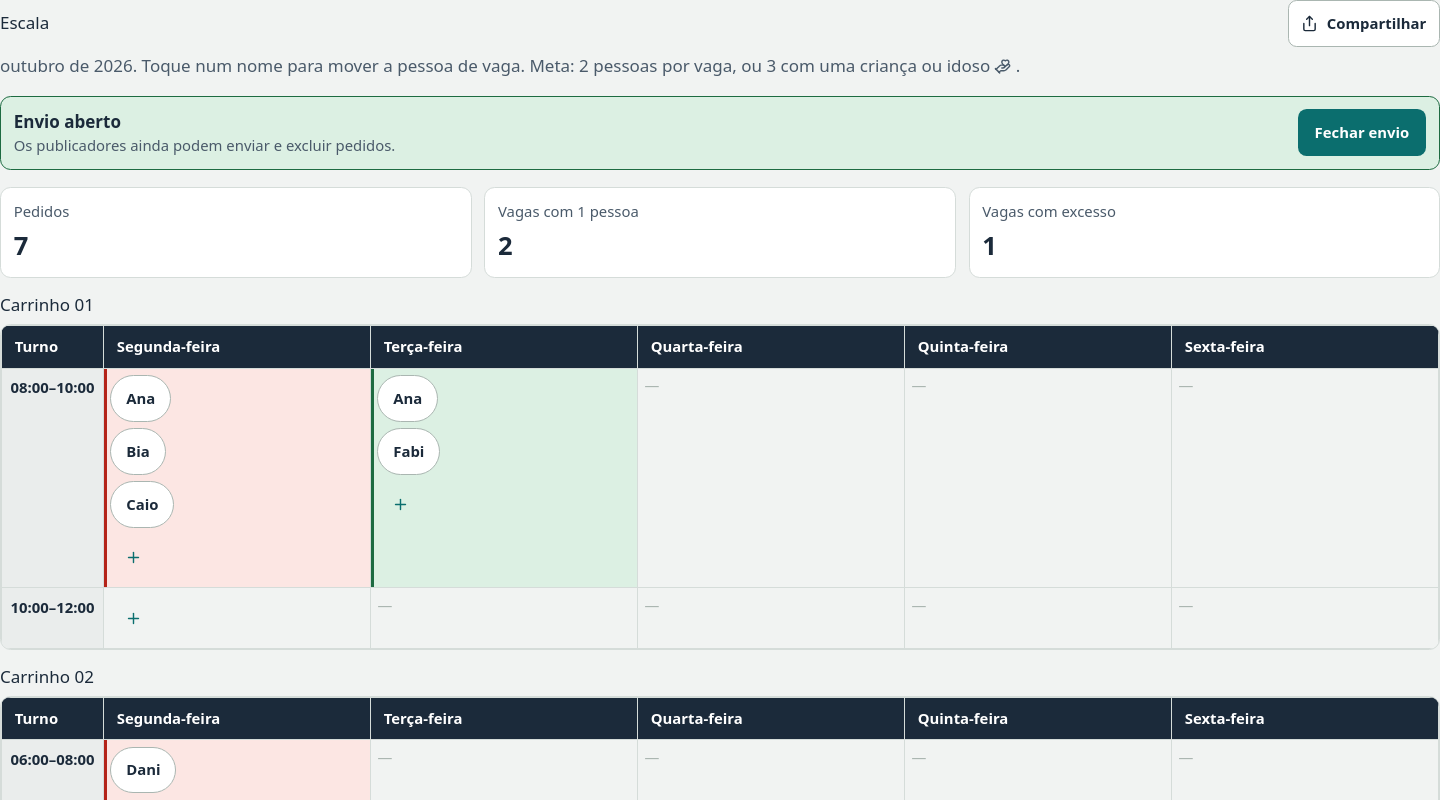
it: RedirecionaParaEscala › envio dos publicadores › erro da API aparece no modal e o estado não muda
This screenshot has width=1440, height=800.
expect the heading "Escala" is shown: met, box x1=0 y1=13 x2=49 y2=34
Click the button "Fechar envio": [1362, 133] box x1=1298 y1=109 x2=1426 y2=156
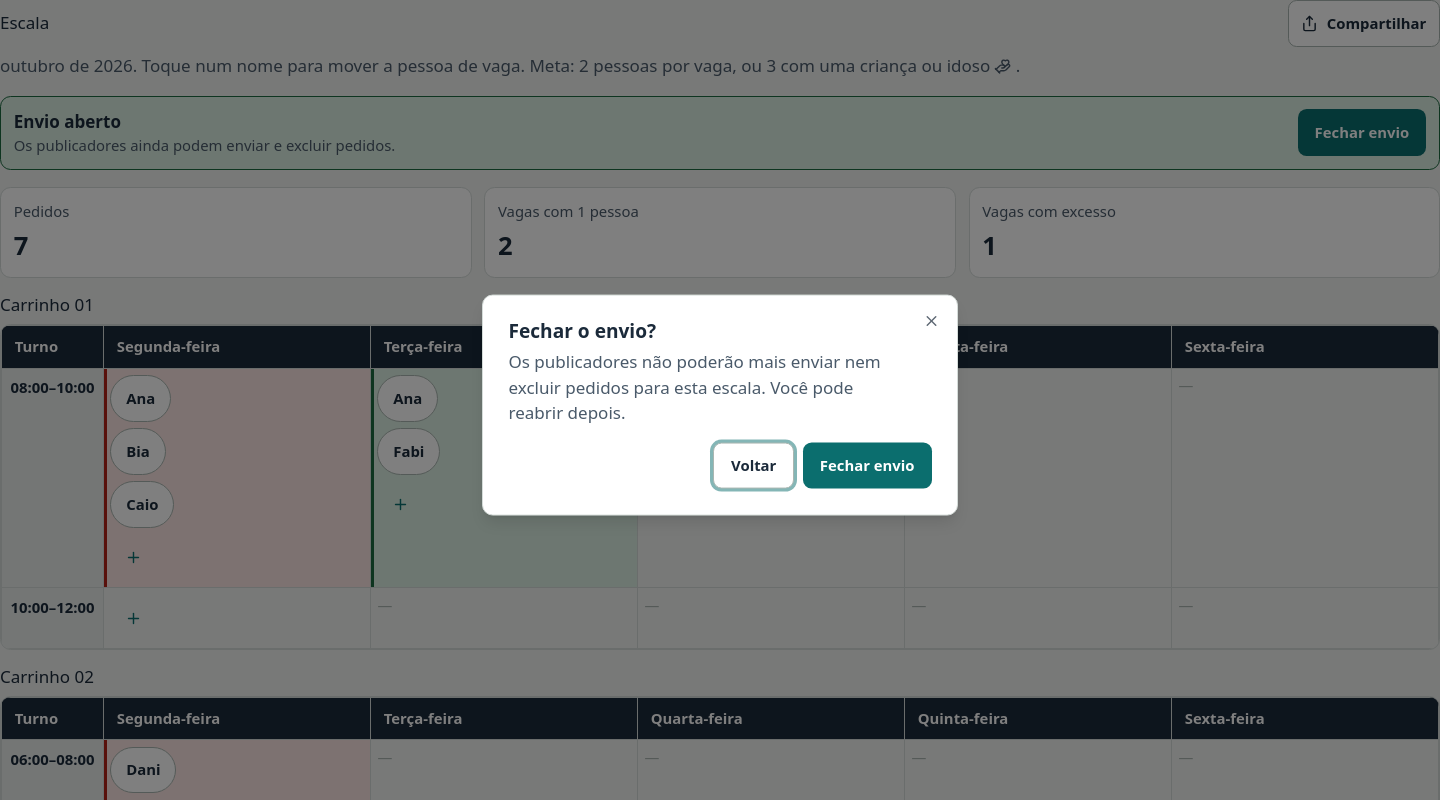
Click the button "Fechar envio": [867, 466] box x1=803 y1=442 x2=932 y2=489
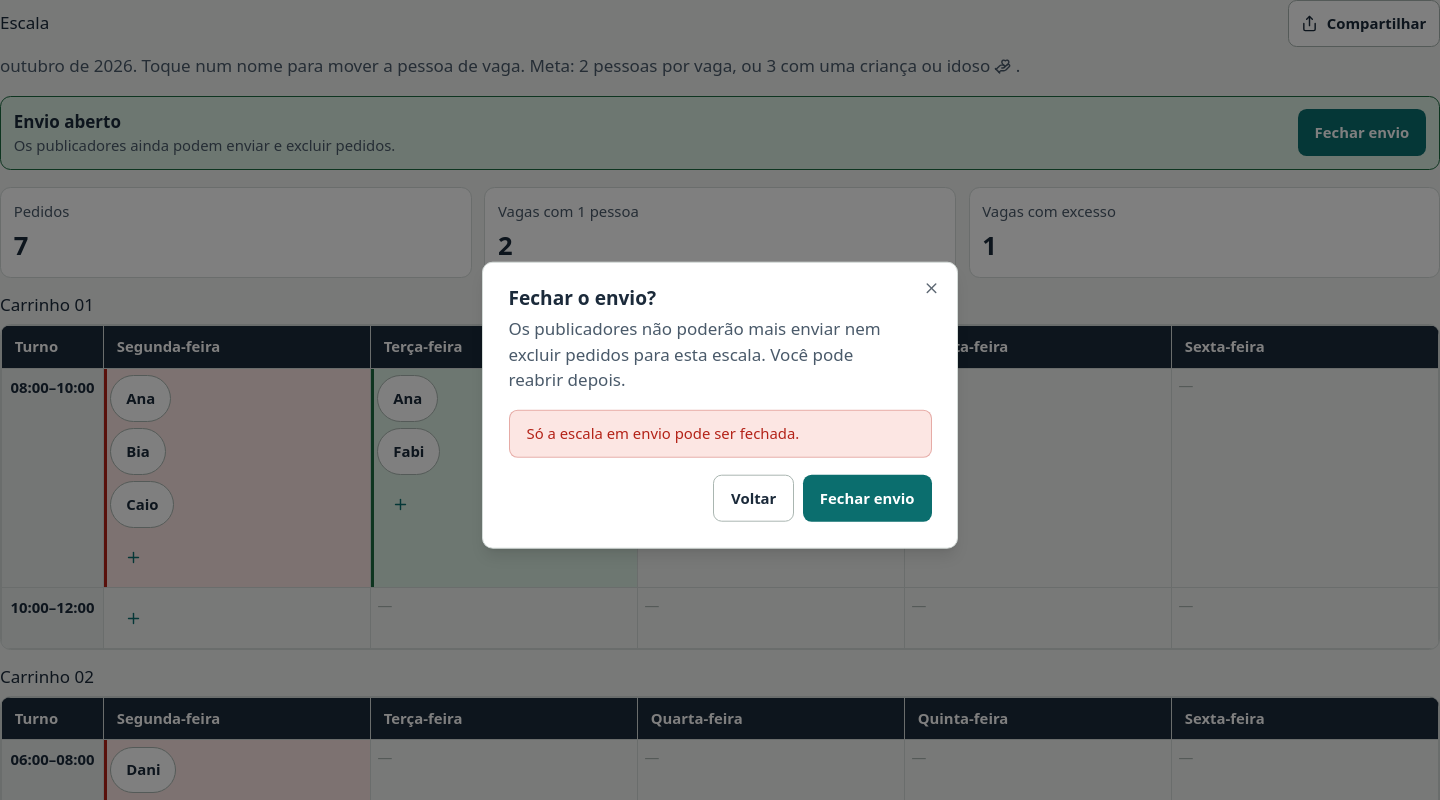
expect the text "Envio aberto" is shown: met, box x1=14 y1=110 x2=121 y2=133
expect the text "Só a escala em envio pode ser fechada." is shown: met, box x1=526 y1=423 x2=799 y2=443
